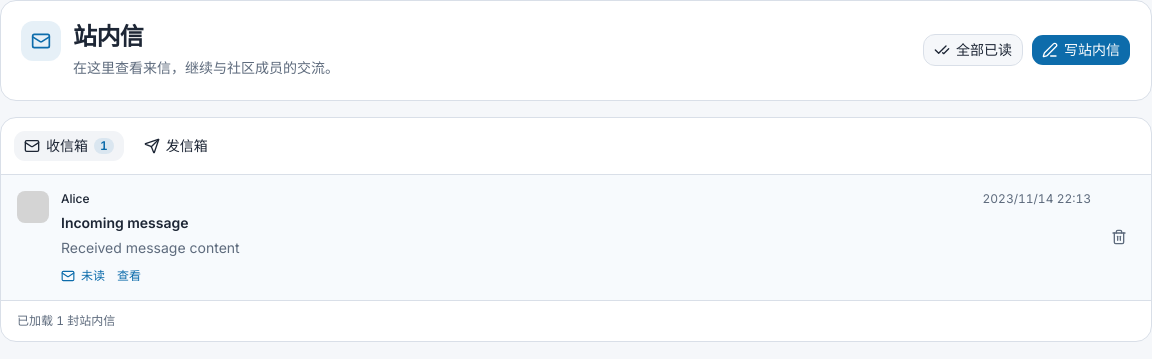
Test: Independent message async review › does not claim the recipient read outgoing mail when marking the inbox read finishes late
Check: the text "Incoming message" is shown, box [61,214,189,231]
Click the button "全部已读" at (973, 50), box [923,34,1023,66]
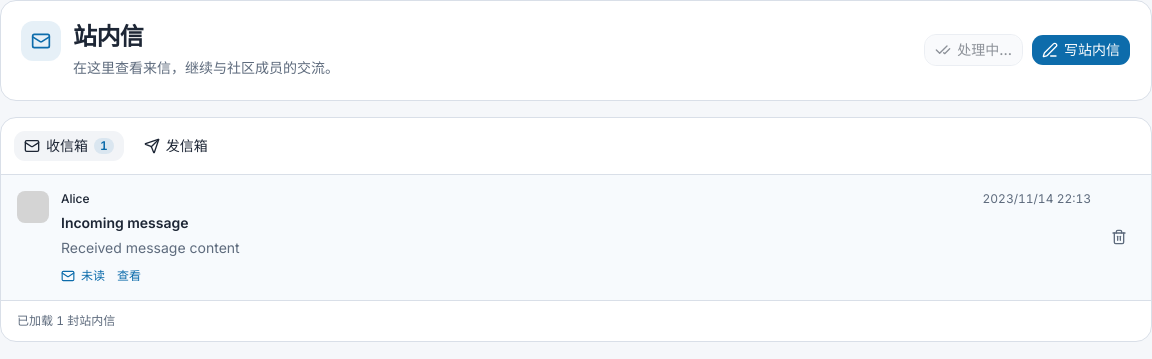
Click the button "发信箱" at (176, 146), box [133,130,219,162]
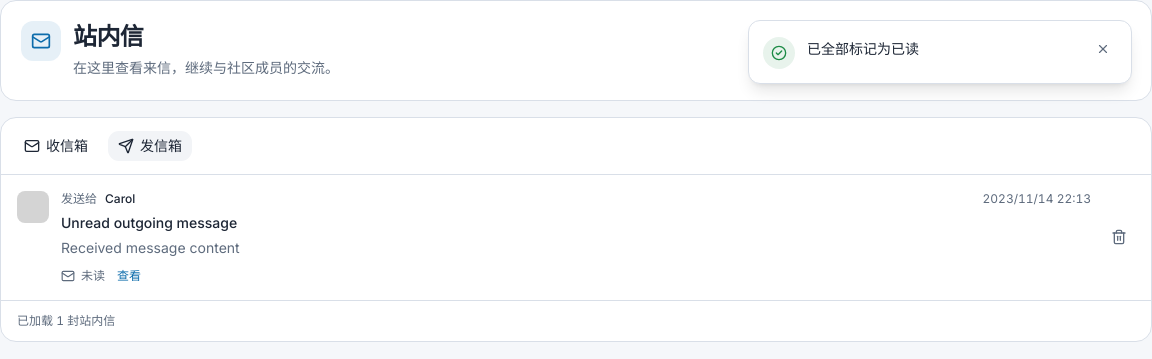
Check: the text "未读" is shown, box [61,268,105,284]
Check: the text "Unread outgoing message" is shown, box [61,214,237,231]
